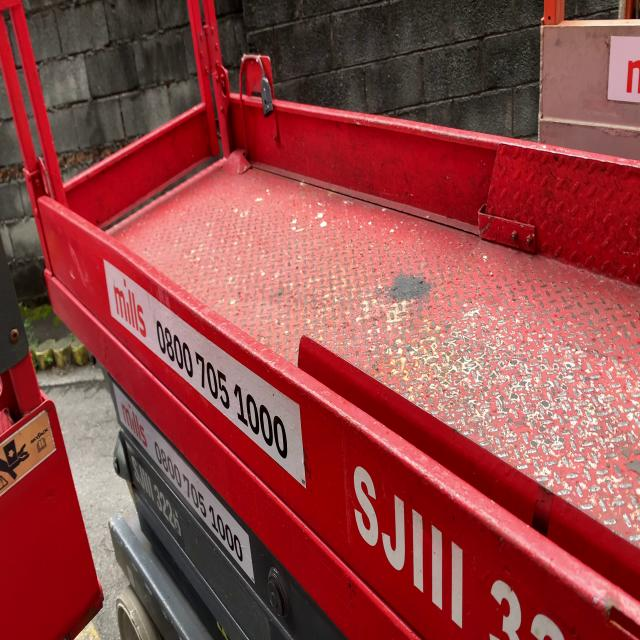Adesivo Longo: (102, 256, 309, 497), (112, 379, 258, 590)
